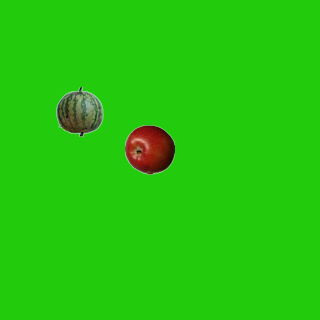Apple Braeburn: (124, 124, 174, 174)
Watermelon: (54, 86, 104, 136)
